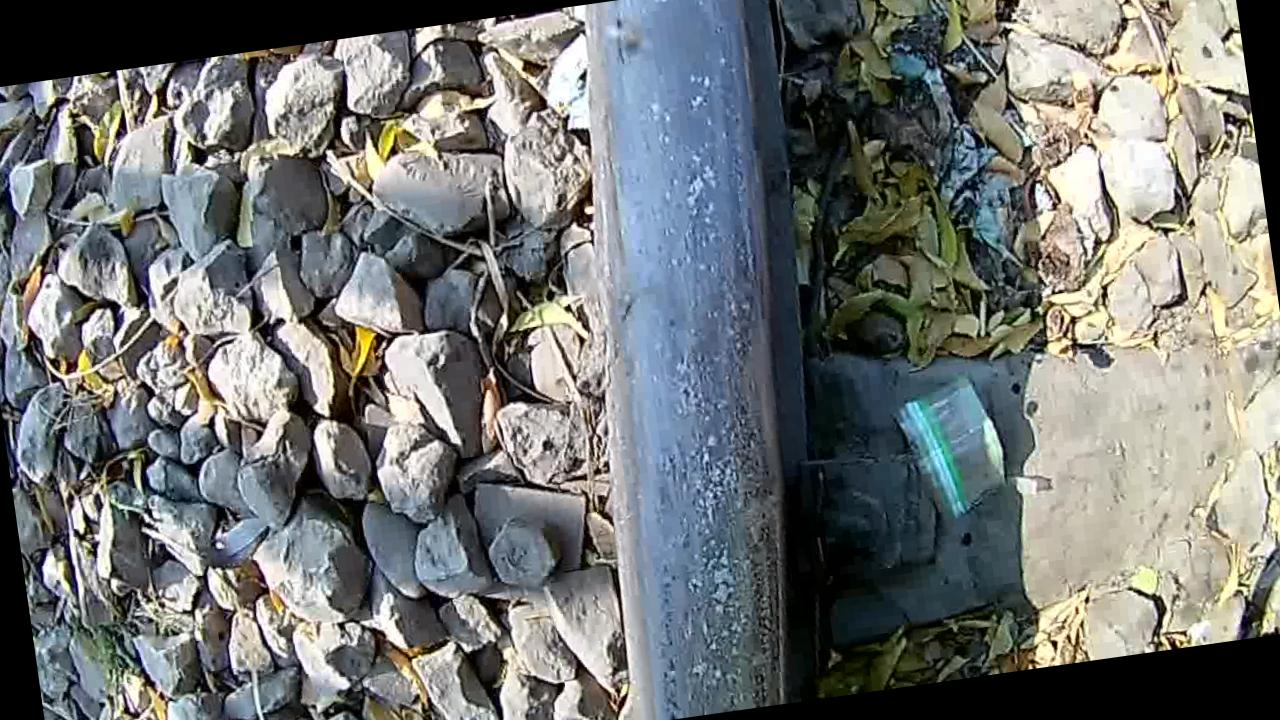bolt_missing: (563, 0, 838, 720)
